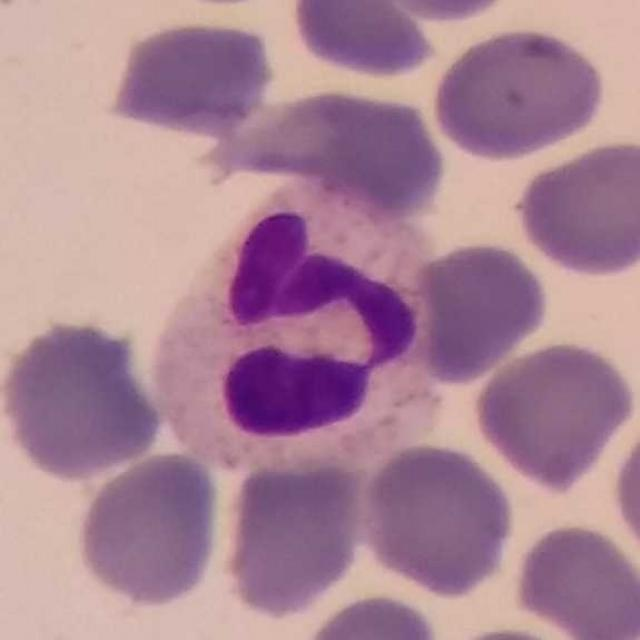Neutrophil: (142, 192, 446, 473)
RBC: (0, 314, 167, 482), (468, 336, 639, 493), (355, 437, 519, 600), (217, 450, 372, 622), (71, 449, 227, 611), (428, 24, 609, 162), (238, 84, 438, 208), (402, 236, 553, 385), (104, 16, 280, 139), (510, 136, 640, 280), (510, 518, 640, 640), (285, 0, 442, 83), (294, 589, 446, 640), (607, 405, 640, 579), (356, 0, 524, 24)
